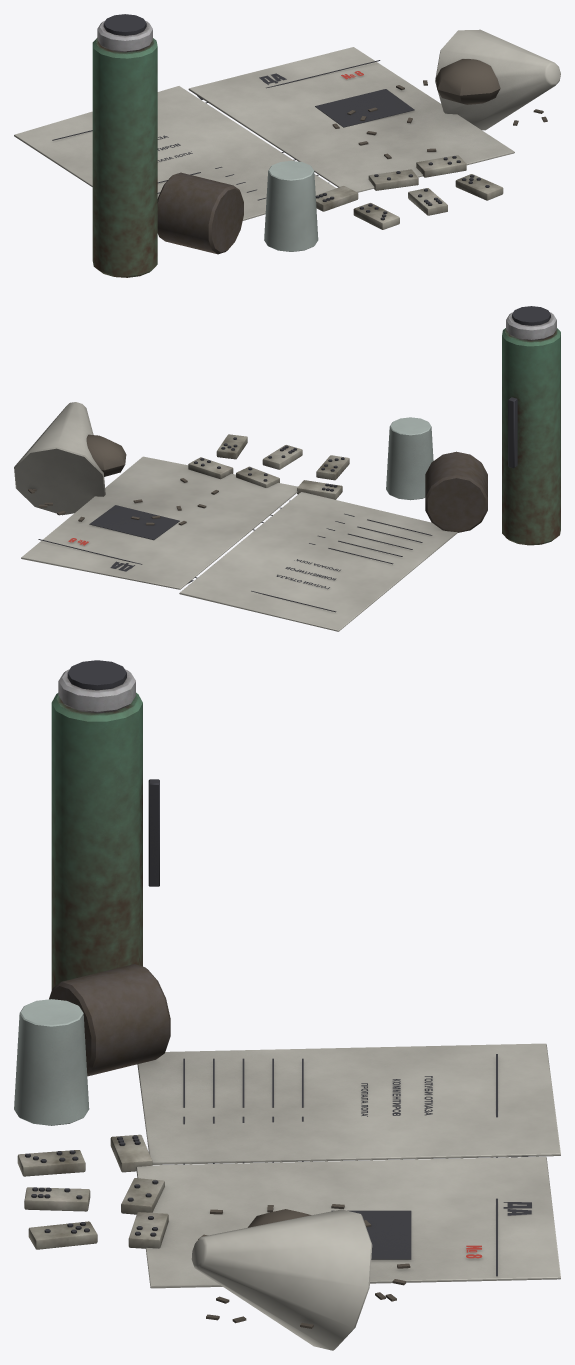
The model's file is g67_gazebo_set.glb.
The picture shows the model from 3 angles, top to bottom: view 1: azimuth 30°, elevation 25°; view 2: azimuth 150°, elevation 25°; view 3: azimuth 270°, elevation 25°; orthographic projection. The views are drawn at different scales.
Visible parts, largest first — view 1: g67_gazebo_set; view 2: g67_gazebo_set; view 3: g67_gazebo_set.
Part boxes in pixels (bbox=[...]): g67_gazebo_set: bbox=[14, 14, 560, 277]; g67_gazebo_set: bbox=[14, 306, 560, 631]; g67_gazebo_set: bbox=[14, 660, 560, 1350].
Size of the model in its own units: 0.7082 by 0.3637 by 0.4789.
1 material, 1 textured.
